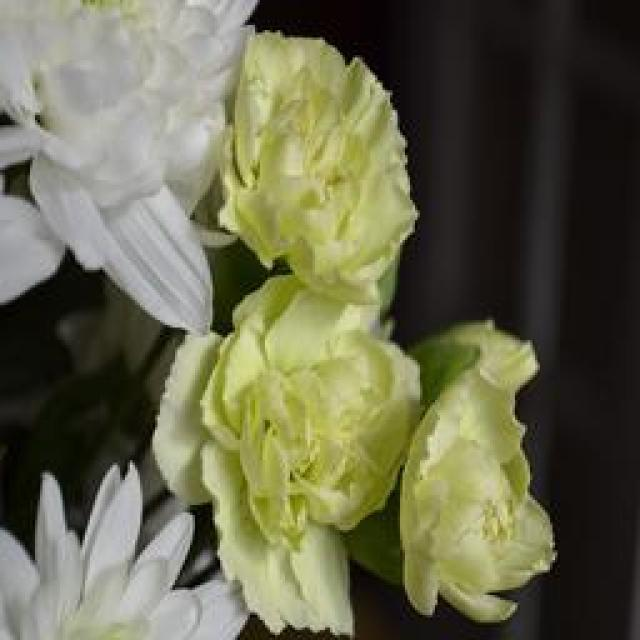carnation: (177, 279, 395, 586)
